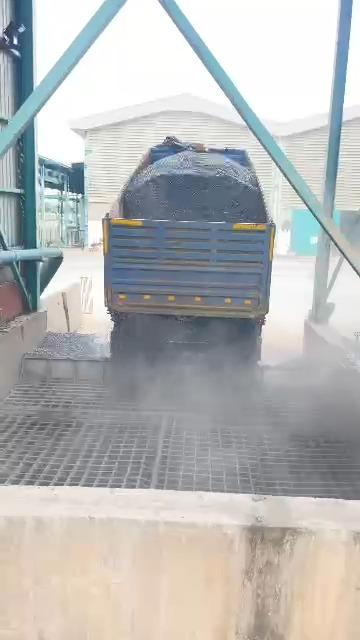gravel: (123, 147, 269, 222), (110, 316, 260, 369), (35, 332, 109, 359)
